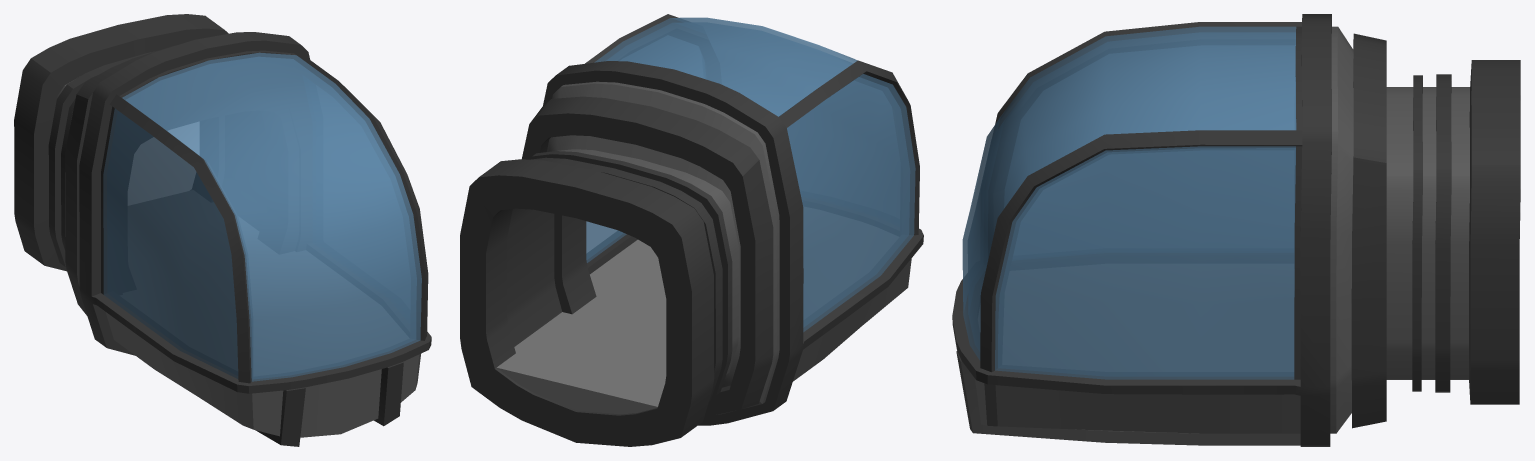
File: Cockpit_Module_01.fbx
The picture shows the model from 3 angles, left to right: view 1: azimuth 30°, elevation 25°; view 2: azimuth 150°, elevation 25°; view 3: azimuth 270°, elevation 25°; orthographic projection. The views are drawn at different scales.
Parts seen in each view (by area): view 1: Cockpit_Module_01; view 2: Cockpit_Module_01; view 3: Cockpit_Module_01.
Boxes of the visible parts, <box> form: Cockpit_Module_01: <box>14,14,431,446</box>; Cockpit_Module_01: <box>460,14,923,446</box>; Cockpit_Module_01: <box>952,14,1520,446</box>.
Bounding box in the file's own units: 426 × 548 × 734.
